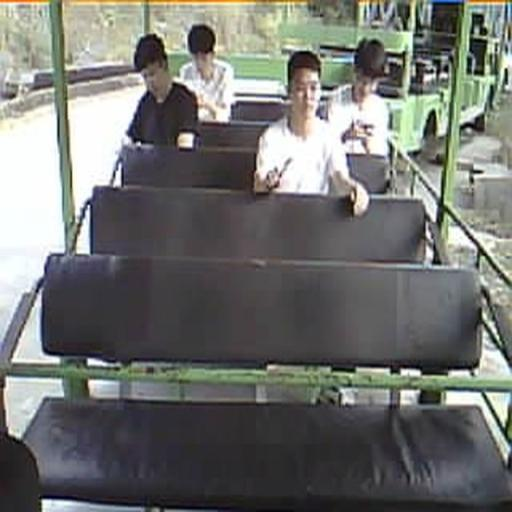persona: (253, 49, 370, 217), (123, 32, 201, 150), (327, 37, 391, 159), (177, 24, 235, 122)
